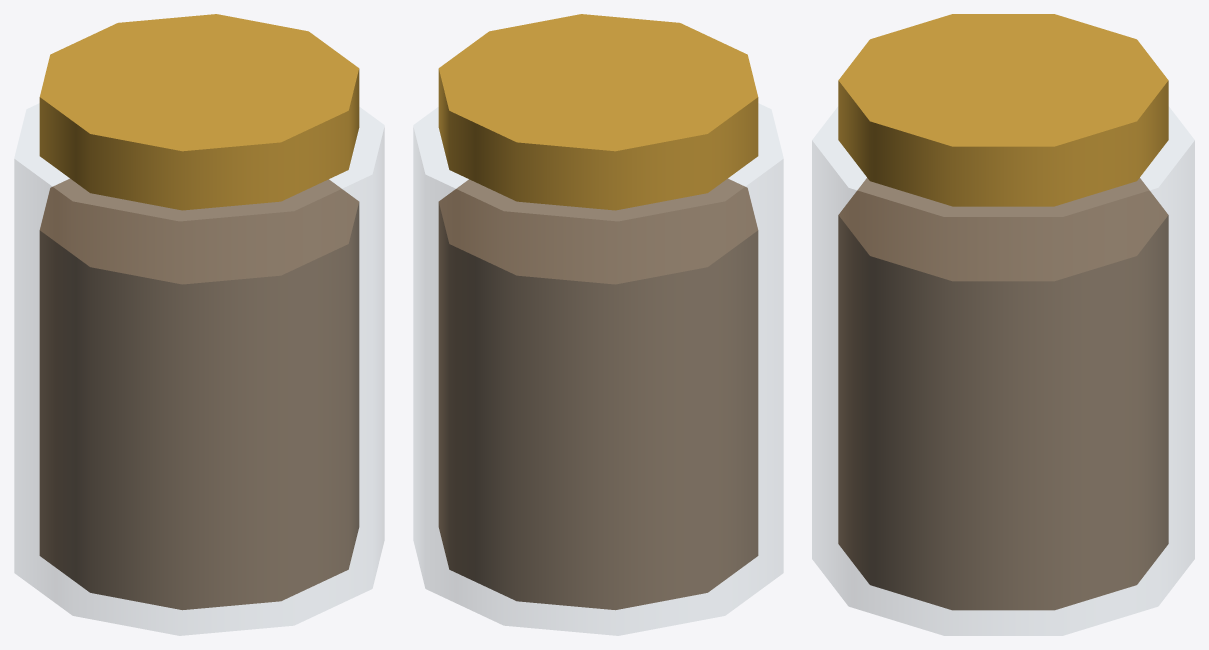
File: jar.glb
3 renders of one model, left to right at view 1: azimuth 30°, elevation 25°; view 2: azimuth 150°, elevation 25°; view 3: azimuth 270°, elevation 25°, orthographic.
Parts seen in each view (by area): view 1: 01_#d8e8f0_noshadow_r110, 00_paint0_noshadow_r110, 02_#d8a840_noshadow_r110; view 2: 01_#d8e8f0_noshadow_r110, 00_paint0_noshadow_r110, 02_#d8a840_noshadow_r110; view 3: 01_#d8e8f0_noshadow_r110, 00_paint0_noshadow_r110, 02_#d8a840_noshadow_r110.
Boxes of the visible parts, <box> form: 01_#d8e8f0_noshadow_r110: <box>14,103,384,635</box>; 00_paint0_noshadow_r110: <box>39,178,359,610</box>; 02_#d8a840_noshadow_r110: <box>39,14,359,210</box>; 01_#d8e8f0_noshadow_r110: <box>413,103,783,635</box>; 00_paint0_noshadow_r110: <box>438,178,758,610</box>; 02_#d8a840_noshadow_r110: <box>438,14,758,210</box>; 01_#d8e8f0_noshadow_r110: <box>812,107,1194,635</box>; 00_paint0_noshadow_r110: <box>838,178,1168,610</box>; 02_#d8a840_noshadow_r110: <box>838,14,1168,206</box>.
Size of the model in its own units: 0.1103 by 0.16 by 0.116.
